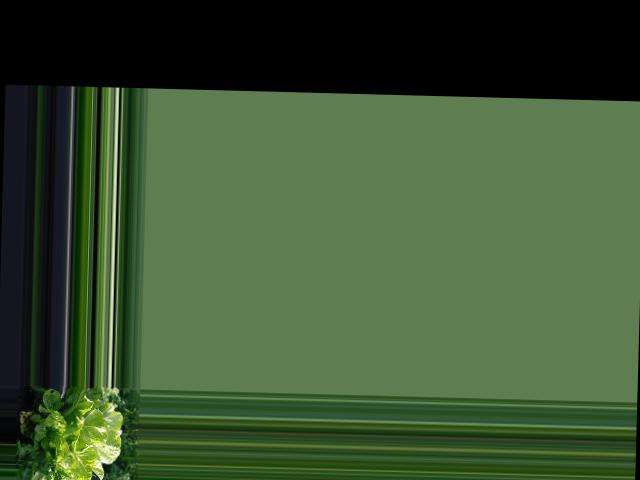lettuce: (35, 388, 122, 476)
